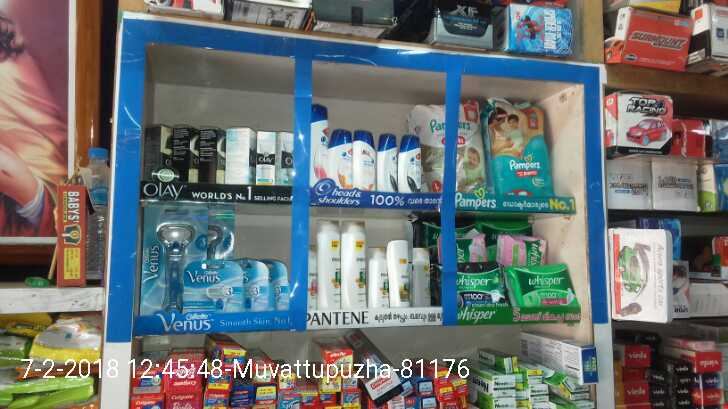venus: (148, 208, 183, 314), (183, 261, 243, 314), (243, 261, 270, 306), (212, 207, 237, 251), (270, 261, 291, 306)
